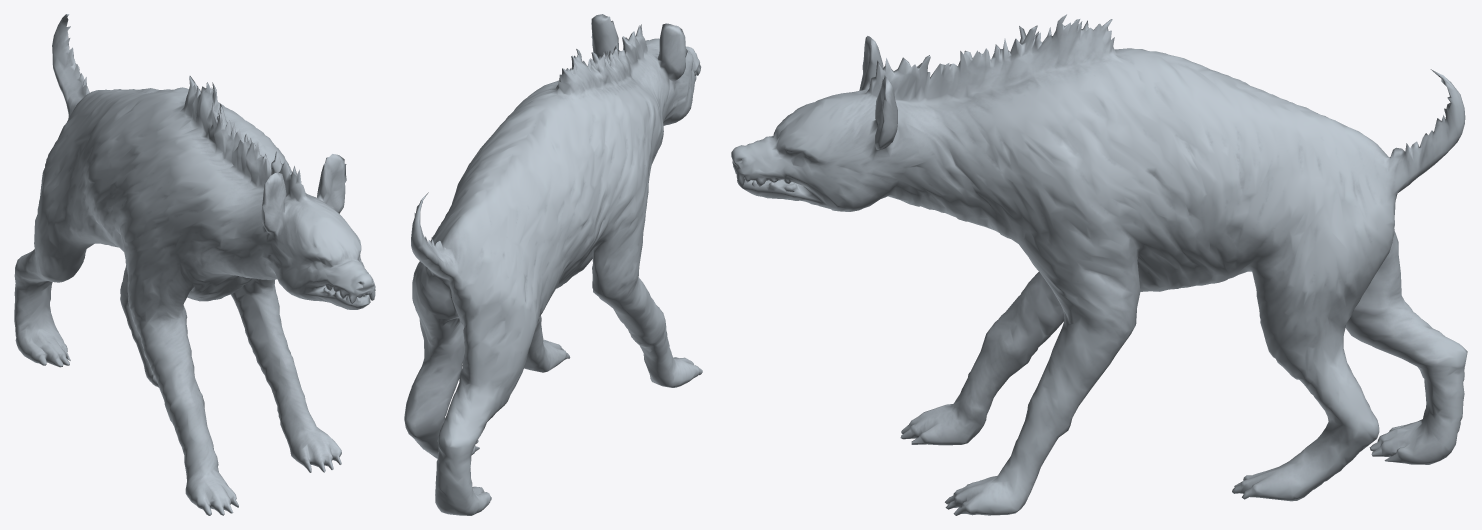
Rendered from giant_hyena.glb.
3 renders of one model, left to right at view 1: azimuth 30°, elevation 25°; view 2: azimuth 150°, elevation 25°; view 3: azimuth 270°, elevation 25°, orthographic. The views are drawn at different scales.
Visible parts, largest first — view 1: Hyena_V4.001; view 2: Hyena_V4.001; view 3: Hyena_V4.001.
Boxes of the visible parts, bbox=[...] form: Hyena_V4.001: bbox=[14, 14, 375, 515]; Hyena_V4.001: bbox=[404, 14, 702, 515]; Hyena_V4.001: bbox=[731, 14, 1467, 515].
Size of the model in its own units: 47.59 by 103 by 151.
1 material, 1 textured.
